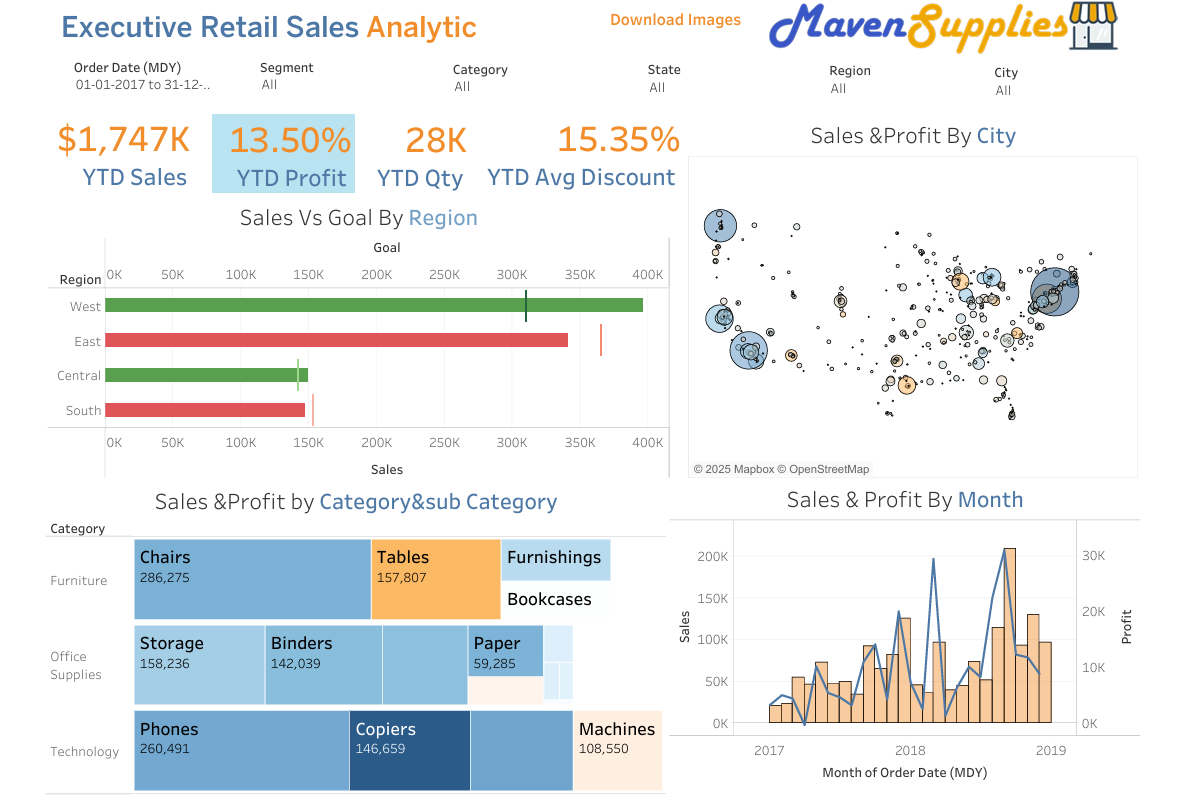

Layout of this report page (visuals, bound fields, positions):
{"tool":"tableau","page":{"name":"Dashboard 1","canvas":[1000,1000],"units":"permille","ordinal":0},"visuals":[{"type":"image","param":"Image/Maven Supplies Logo.png","box":[598.6,3.1,309.3,67.7]},{"type":"text","box":[17,10,411.4,57.7]},{"type":"dashboard-object","box":[457.2,10,138.5,40]},{"type":"filter","title":"Bar- Sales VS Goal","param":"[federated.1lxxo6s00qfdn41g2tk9b0ykjlkj].[none:Region:nk]","box":[652.9,75,108.9,67.7]},{"type":"filter","title":"Bar- Sales VS Goal","param":"[federated.1lxxo6s00qfdn41g2tk9b0ykjlkj].[none:City:nk]","box":[789.1,77.2,104.5,63.4]},{"type":"filter","title":"Bar- Sales VS Goal","param":"[federated.1lxxo6s00qfdn41g2tk9b0ykjlkj].[none:State:nk]","box":[503.5,78.2,116.5,69.8]},{"type":"filter","title":"Bar- Sales VS Goal","param":"[federated.1lxxo6s00qfdn41g2tk9b0ykjlkj].[none:Category:nk]","box":[336.3,84.6,121.6,63.4]},{"type":"filter","title":"Bar- Sales VS Goal","param":"[federated.1lxxo6s00qfdn41g2tk9b0ykjlkj].[none:Segment:nk]","box":[178.6,86.7,122.2,60.2]},{"type":"filter","title":"Bar- Sales VS Goal","param":"[federated.1lxxo6s00qfdn41g2tk9b0ykjlkj].[none:Order Date (MDY):qk]","box":[30.4,89.9,117.2,58.1]},{"type":"worksheet","title":"Map Sales Profit","mark":"Automatic","box":[545.3,159.6,371.8,461.9]},{"type":"worksheet","title":"Sheet 10","mark":"Automatic","box":[7,176.5,128.6,117.3]},{"type":"worksheet","title":"Sheet 11","mark":"Automatic","box":[137.4,176.5,129.2,118.4]},{"type":"worksheet","title":"Sheet 12","mark":"Automatic","box":[268.5,177.6,93.7,117.3]},{"type":"worksheet","title":"Sheet 13","mark":"Automatic","box":[366.1,179.7,178.6,117.3]},{"type":"worksheet","title":"Bar- Sales VS Goal","mark":"Square","rows":["Region"],"cols":["Sales","Goal"],"box":[5.7,293.9,536.4,333]},{"type":"worksheet","title":"TreeMaps","mark":"Automatic","rows":["Category"],"box":[10.8,625.8,515.5,323.5]}]}

Visuals, with their boxes on the dashboard's canvas, which has no fixed pixel size, in thousandths of its width and height (x1, y1, x2, y2). These are canvas units, not pixel positions in the 1180x800 screenshot, which may show the page scaled, cropped or inside an application window:
image: Rect(599, 3, 908, 71)
text: Rect(17, 10, 428, 68)
dashboard-object: Rect(457, 10, 596, 50)
"Bar- Sales VS Goal" filter: Rect(653, 75, 762, 143)
"Bar- Sales VS Goal" filter: Rect(789, 77, 894, 141)
"Bar- Sales VS Goal" filter: Rect(504, 78, 620, 148)
"Bar- Sales VS Goal" filter: Rect(336, 85, 458, 148)
"Bar- Sales VS Goal" filter: Rect(179, 87, 301, 147)
"Bar- Sales VS Goal" filter: Rect(30, 90, 148, 148)
"Map Sales Profit" worksheet: Rect(545, 160, 917, 622)
"Sheet 10" worksheet: Rect(7, 176, 136, 294)
"Sheet 11" worksheet: Rect(137, 176, 267, 295)
"Sheet 12" worksheet: Rect(268, 178, 362, 295)
"Sheet 13" worksheet: Rect(366, 180, 545, 297)
"Bar- Sales VS Goal" worksheet (Square marks): Rect(6, 294, 542, 627)
"TreeMaps" worksheet: Rect(11, 626, 526, 949)
